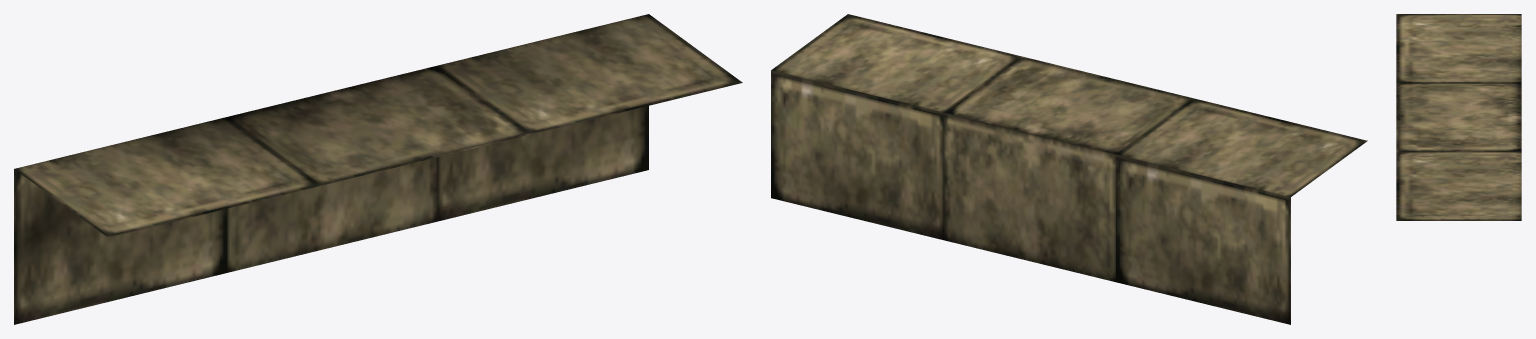
File: OVERHILL_A_01_OBJECT307.fbx
3 views of the same model, side by side, from view 1: azimuth 30°, elevation 25°; view 2: azimuth 150°, elevation 25°; view 3: azimuth 270°, elevation 25° (orthographic). The views are drawn at different scales.
Visible parts, largest first — view 1: OVERHILL_A_01_OBJECT307; view 2: OVERHILL_A_01_OBJECT307; view 3: OVERHILL_A_01_OBJECT307.
Boxes of the visible parts, bbox=[...] form: OVERHILL_A_01_OBJECT307: bbox=[14, 14, 742, 324]; OVERHILL_A_01_OBJECT307: bbox=[771, 14, 1367, 324]; OVERHILL_A_01_OBJECT307: bbox=[1396, 14, 1521, 220].
Bounding box in the file's own units: 32635 × 7663 × 8372.
1 material, 1 textured.
